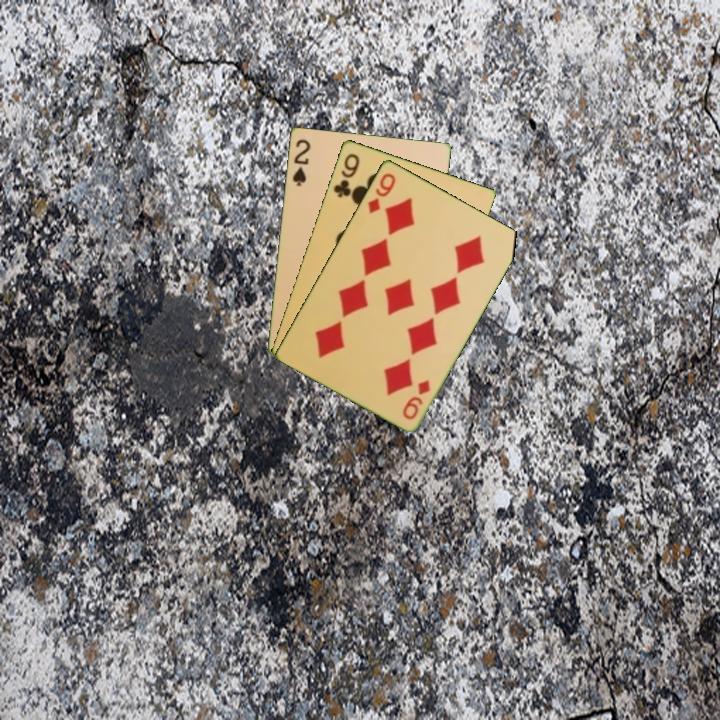2s: (289, 135, 313, 189)
9c: (330, 149, 362, 200)
9d: (364, 169, 399, 216), (399, 375, 433, 422)
